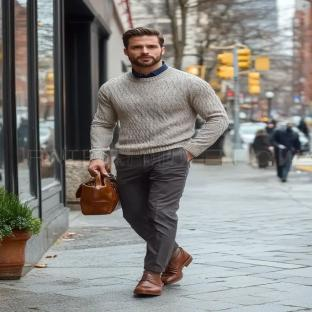Human: (88, 27, 228, 295)
